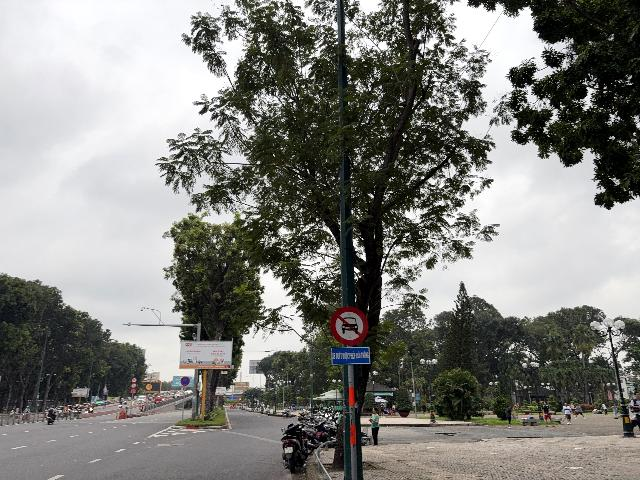cam-o-to: (330, 306, 368, 346)
